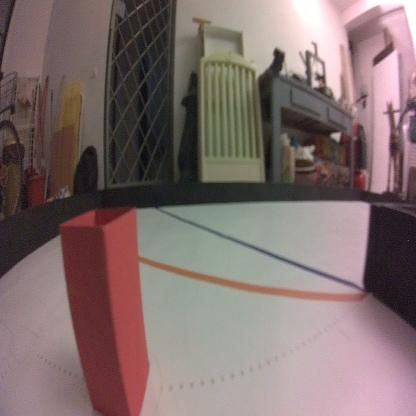red: (57, 205, 150, 416)
